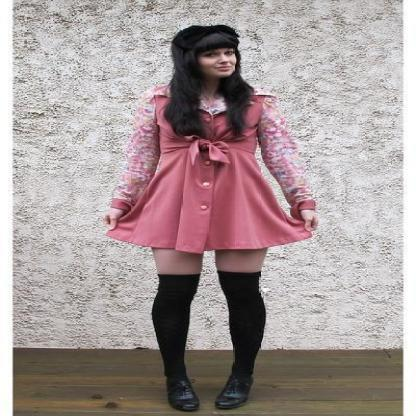dress: (93, 85, 328, 252)
hat: (173, 25, 240, 53)
shoe: (165, 372, 252, 412)
